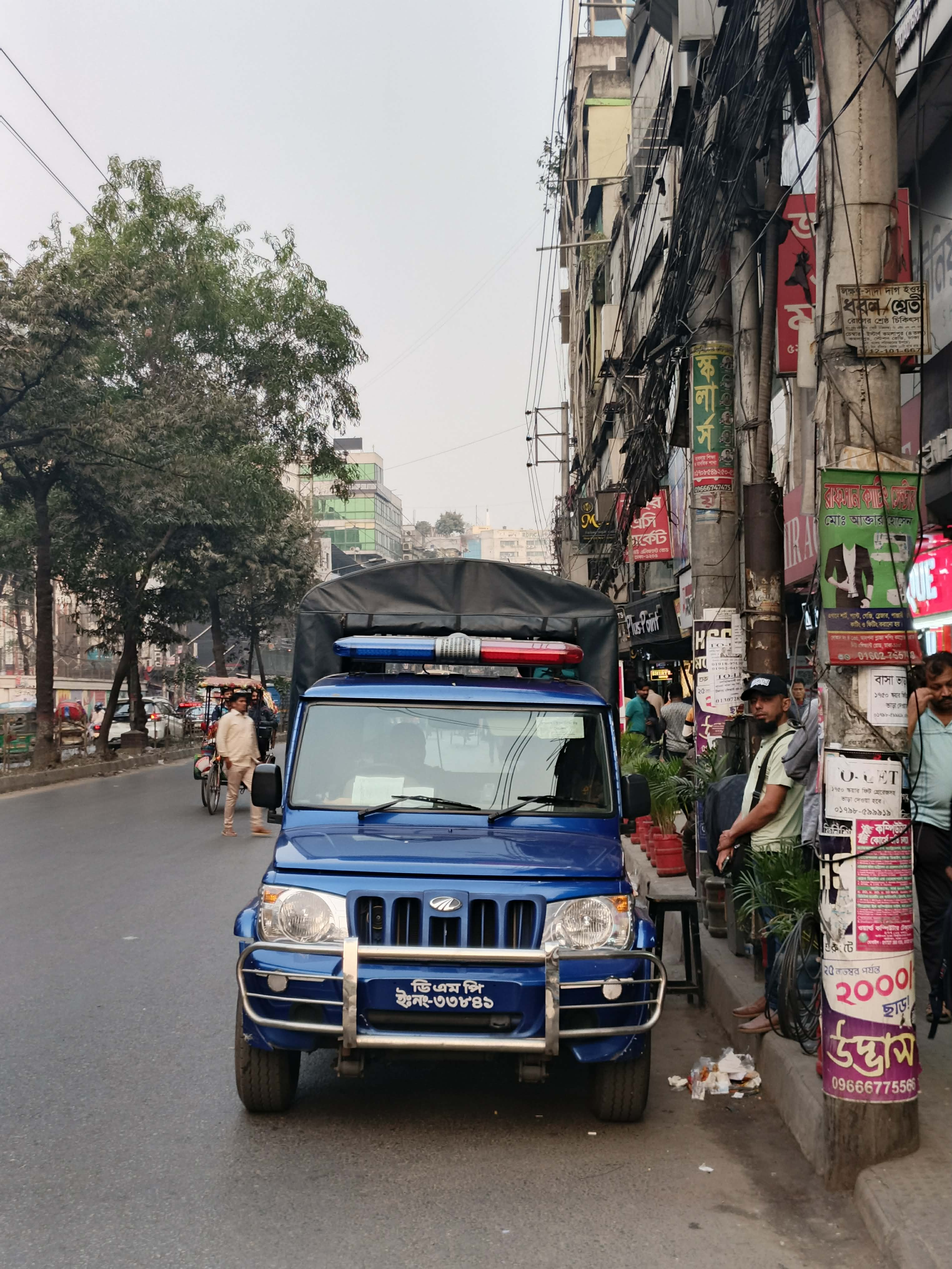Police cars: (225, 506, 705, 1157)
